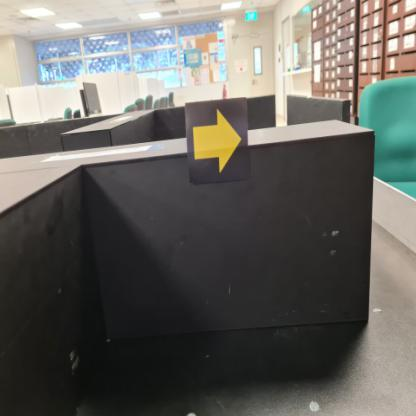right: (184, 97, 251, 186)
